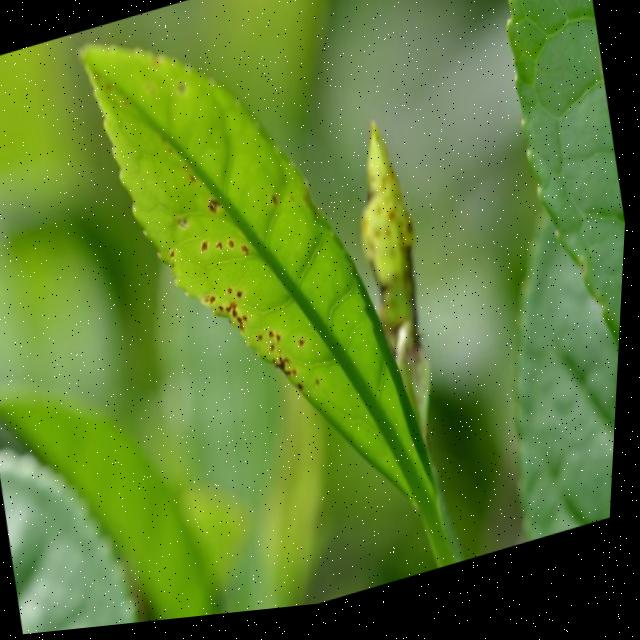Tea red scab: (150, 134, 317, 420), (334, 118, 464, 383)
